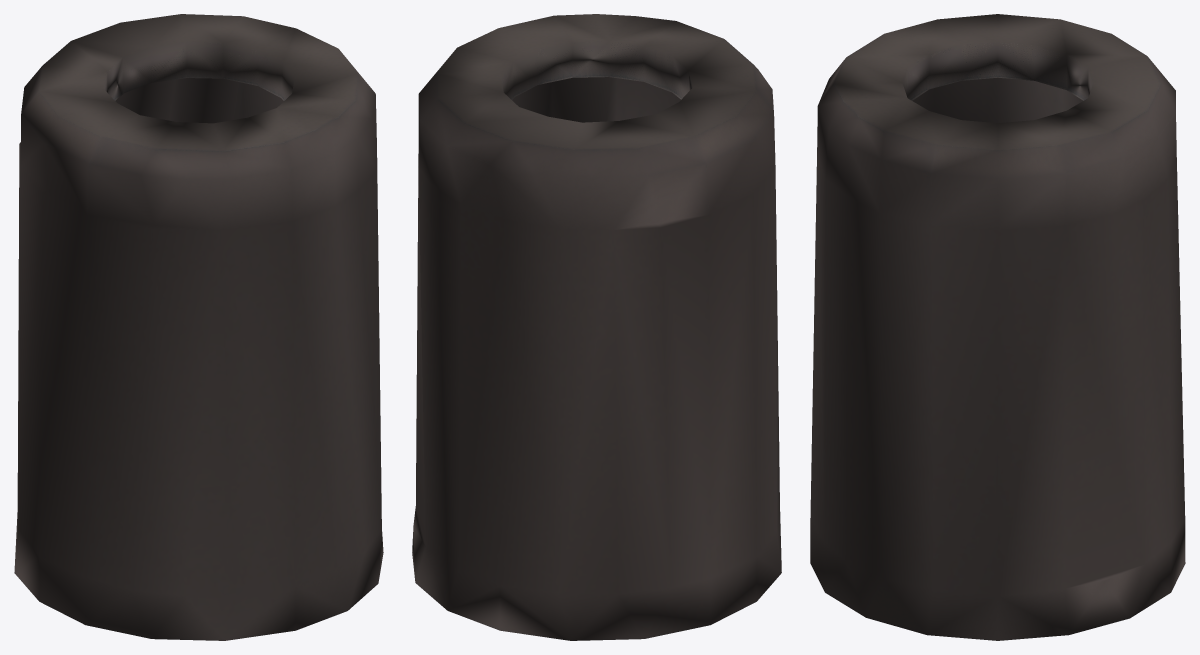
File: trash_bin.fbx
3 views of the same model, side by side, from view 1: azimuth 30°, elevation 25°; view 2: azimuth 150°, elevation 25°; view 3: azimuth 270°, elevation 25° (orthographic).
Visible parts, largest first — view 1: Mesh_0; view 2: Mesh_0; view 3: Mesh_0.
Part boxes in pixels (left/top/right/bottom): Mesh_0: left=14, top=14, right=383, bottom=640; Mesh_0: left=412, top=14, right=781, bottom=640; Mesh_0: left=810, top=14, right=1185, bottom=640.
Size of the model in its own units: 66.55 by 95.17 by 67.33.
Materials: 1 (1 with a texture image).
